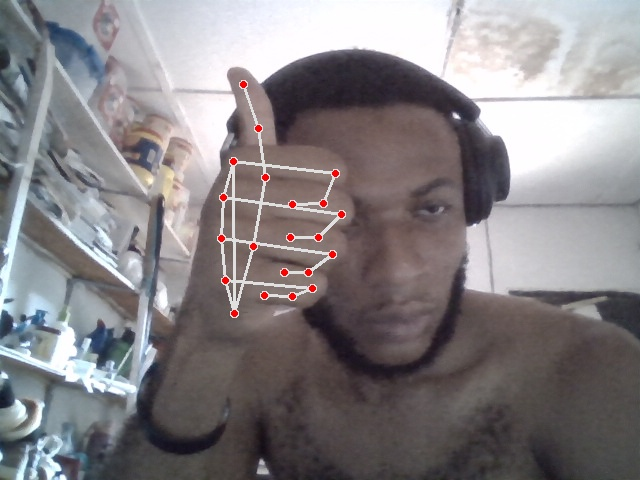thumbsup: (191, 68, 355, 351)
